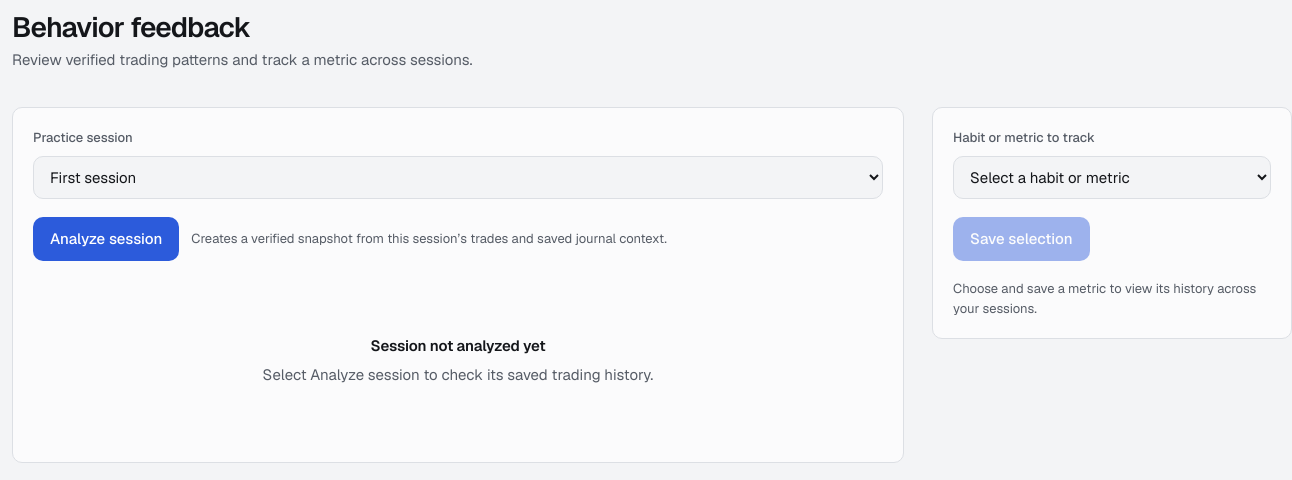
feedback workflow › does not claim success when saving fails
Select "Larger positions after losses (events)" in the dropdown labelled "Habit or metric to track" at (1112, 177), box [953,156,1271,199]
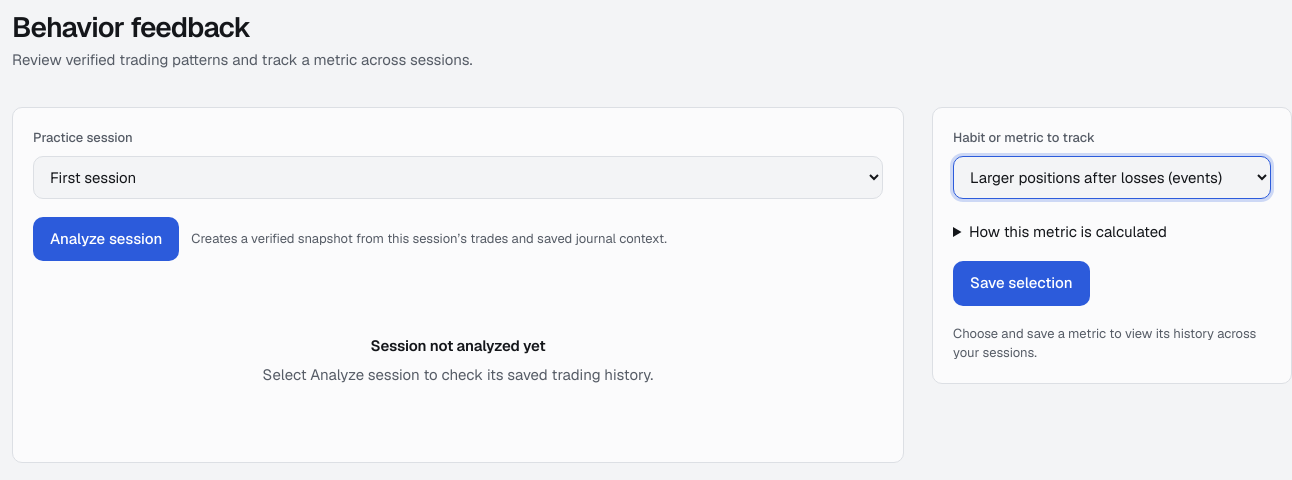
Click the button "Save selection" at (1021, 284), box [953,261,1090,306]
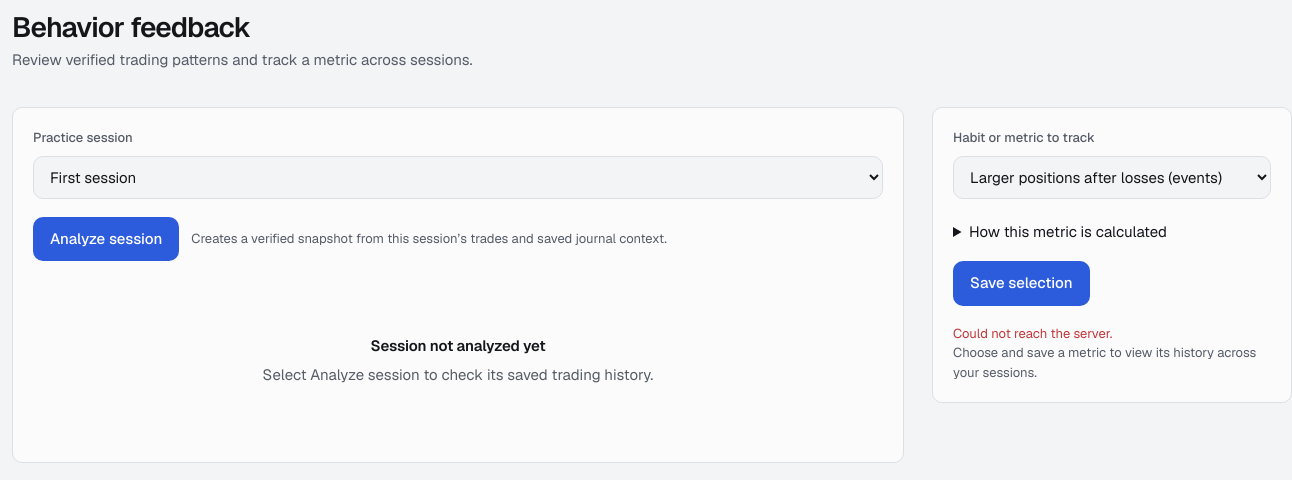
Now the text "Could not reach the server." is shown, box [953,325,1112,342]
